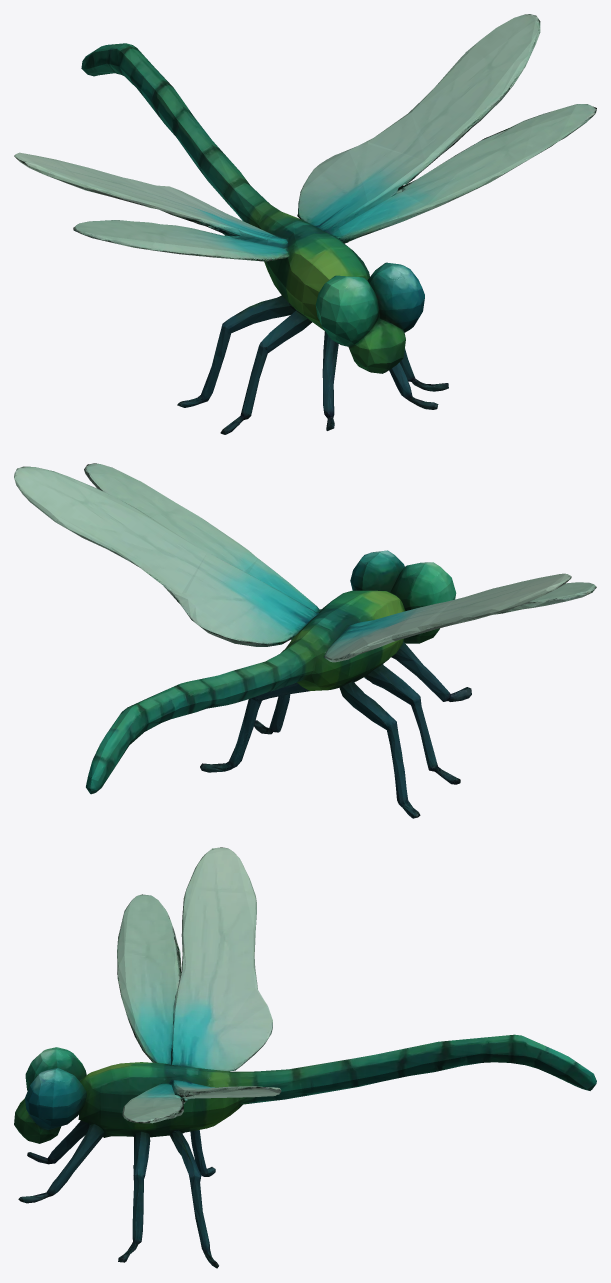
File: dragonfly.glb
3 renders of one model, top to bottom at view 1: azimuth 30°, elevation 25°; view 2: azimuth 150°, elevation 25°; view 3: azimuth 270°, elevation 25°, orthographic. The views are drawn at different scales.
Visible parts, largest first — view 1: world; view 2: world; view 3: world.
Part boxes in pixels (bbox=[...]): world: bbox=[14, 14, 596, 434]; world: bbox=[14, 463, 596, 818]; world: bbox=[14, 847, 596, 1268].
Bounding box in the file's own units: 0.9542 × 0.4861 × 0.994.
Materials: 1 (1 with a texture image).
